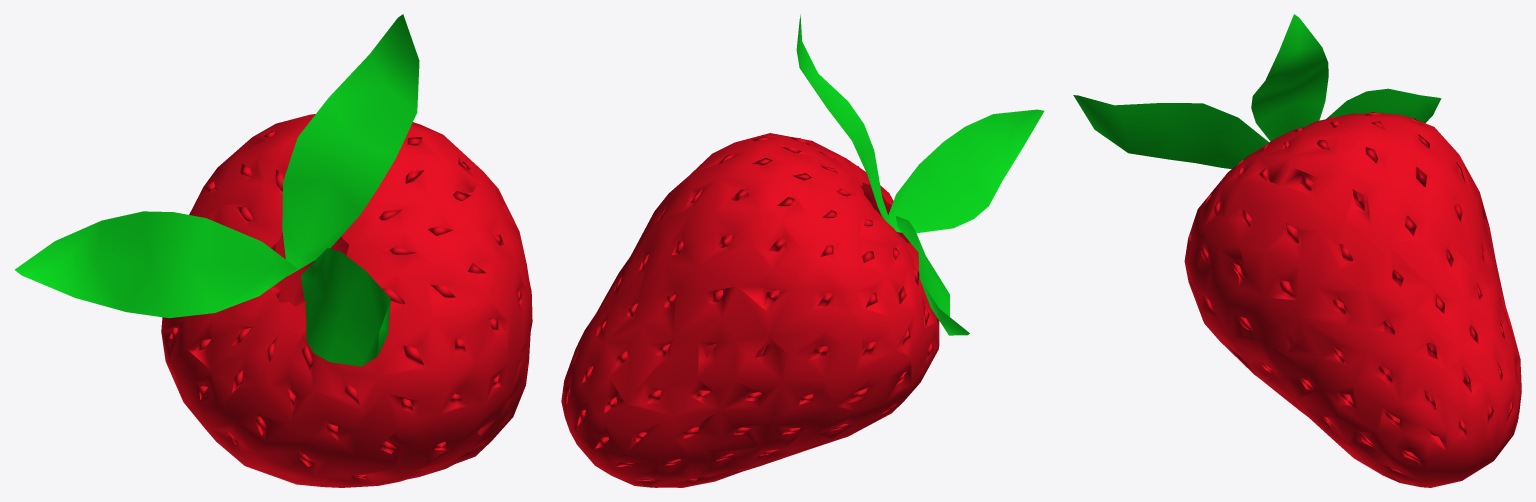
File: Rasberry1.fbx
3 views of the same model, side by side, from view 1: azimuth 30°, elevation 25°; view 2: azimuth 150°, elevation 25°; view 3: azimuth 270°, elevation 25° (orthographic). The views are drawn at different scales.
Parts seen in each view (by area): view 1: strawberry; view 2: strawberry; view 3: strawberry.
Boxes of the visible parts, box(x1,y1,x2,y2) form: strawberry: box(14, 14, 532, 487); strawberry: box(561, 14, 1044, 487); strawberry: box(1073, 14, 1521, 487).
Bounding box in the file's own units: 192 × 199 × 189.
